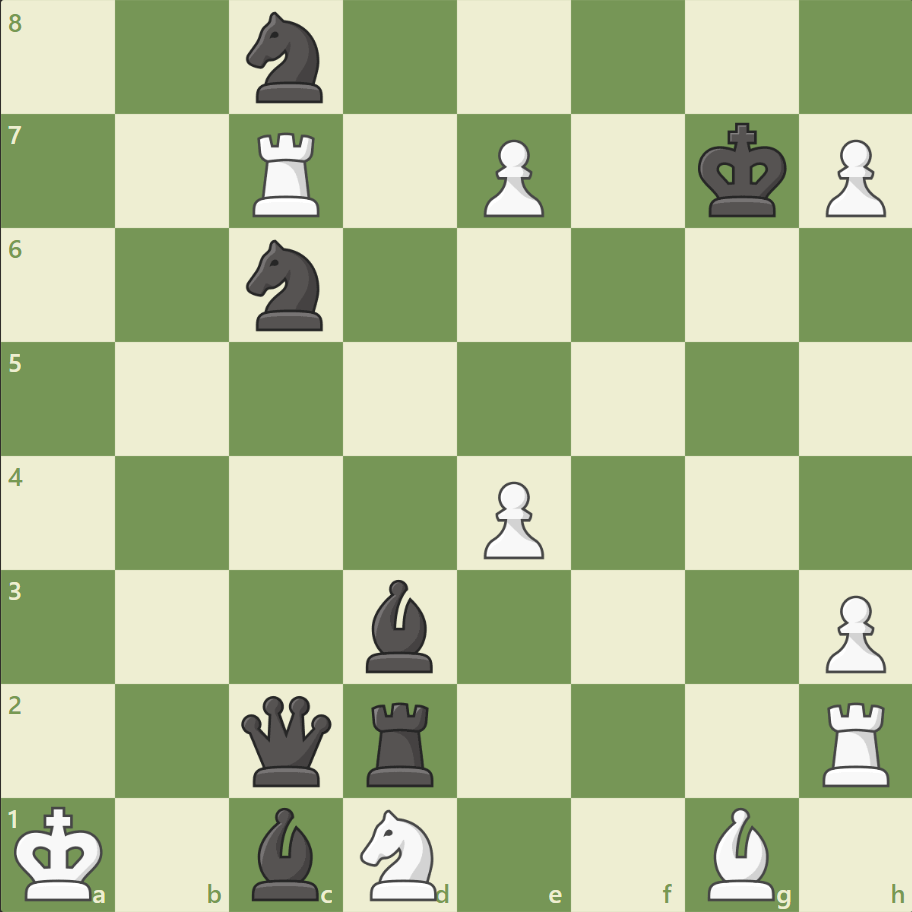B: (698, 801, 782, 904)
K: (11, 798, 111, 906)
N: (351, 802, 449, 904)
P: (474, 132, 549, 223), (474, 473, 549, 564), (815, 132, 889, 223), (815, 586, 889, 677)
R: (246, 125, 329, 222), (814, 693, 897, 790)
b: (244, 801, 328, 904), (358, 574, 442, 676)
k: (692, 117, 792, 225)
n: (238, 7, 335, 110), (238, 234, 335, 337)
q: (237, 690, 336, 789)
r: (360, 693, 442, 790)
